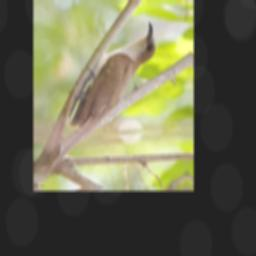Cuckoo: (67, 17, 157, 130)
